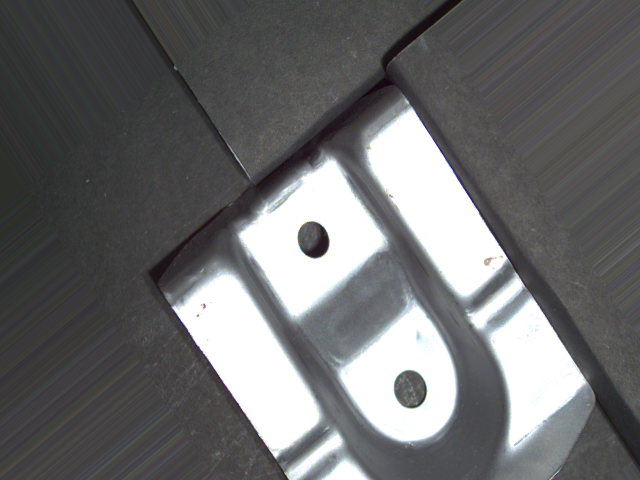defect: (391, 368, 431, 411)
